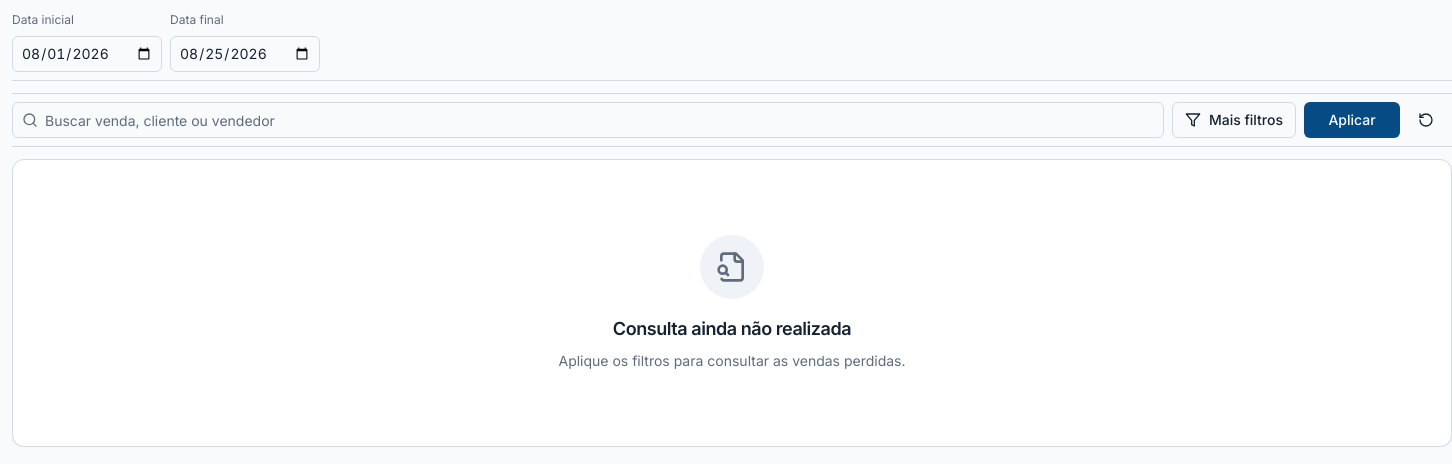
Test: lost sales page › shows the standard content loader while the initial query is pending
The width and height of the screenshot is (1452, 464).
Click the button "Aplicar": click(1352, 120) [1304, 102, 1400, 138]
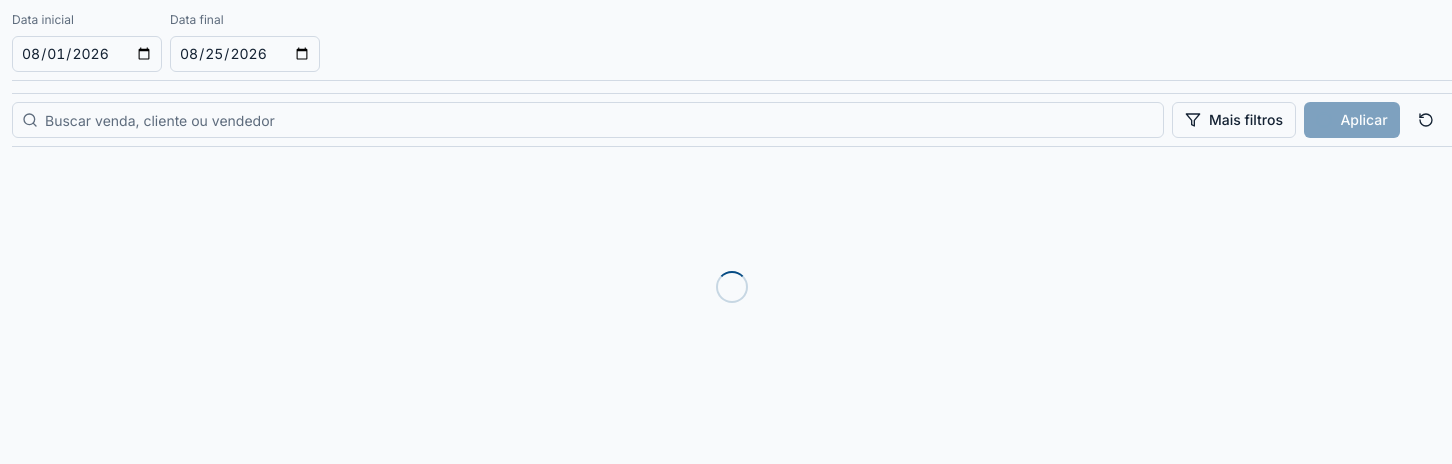
expect the message named "Carregando vendas perdidas" is shown: met, box [12, 159, 1451, 415]
expect the 2nd element with test id "loading-indicator" is shown: met, box [716, 271, 748, 303]
